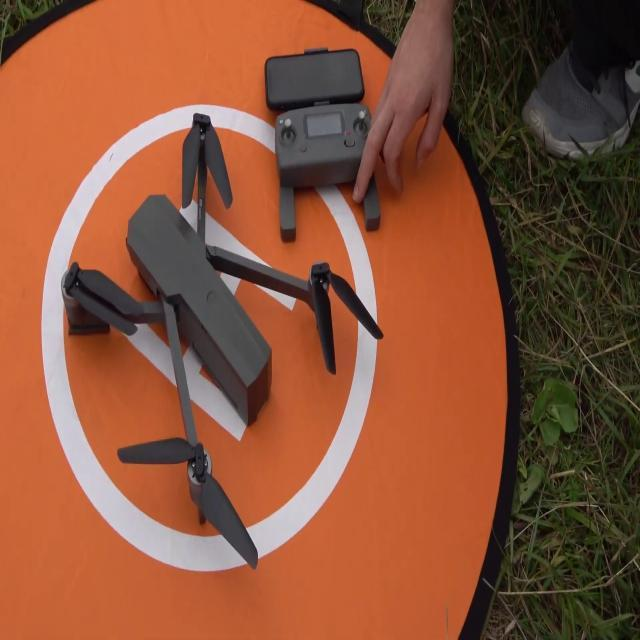Drons: (41, 104, 386, 582)
